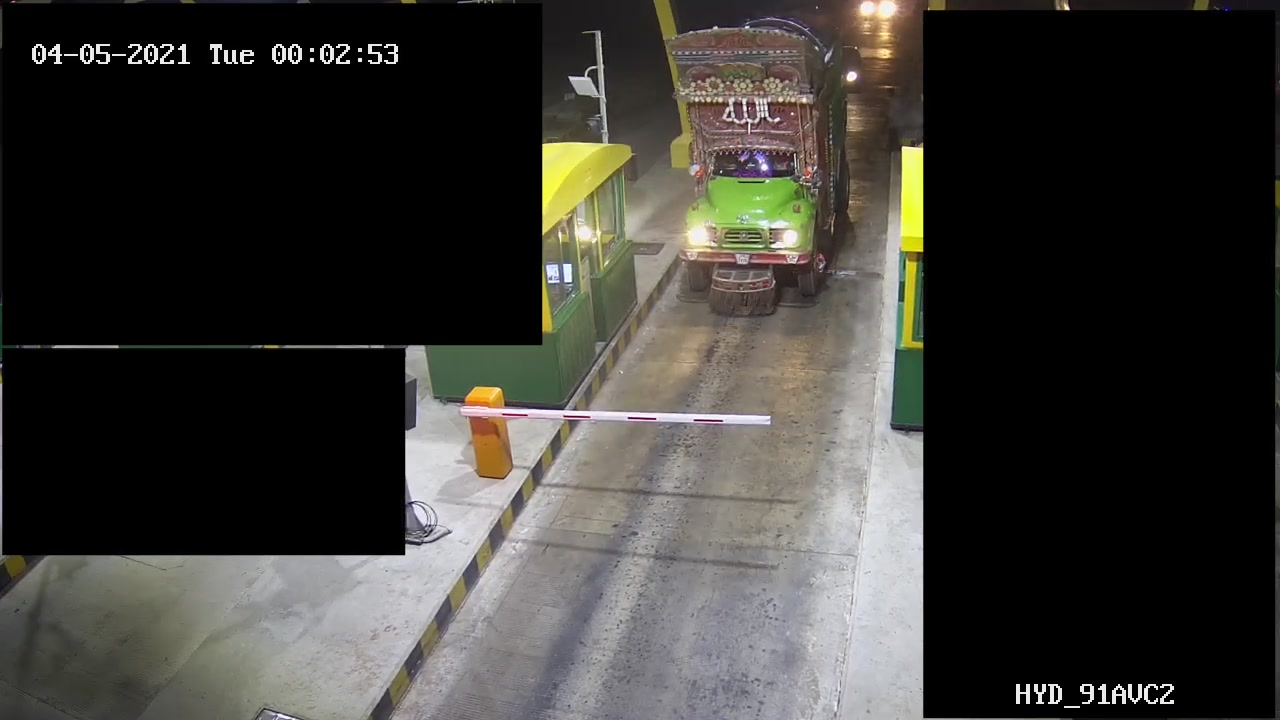F5: (665, 13, 848, 326)
